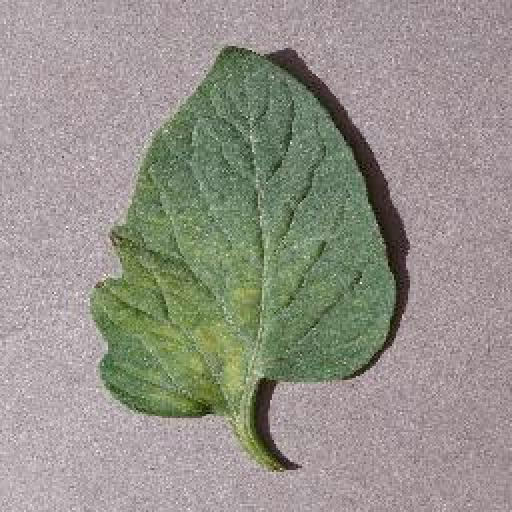disease_tomato: (90, 46, 398, 416)
